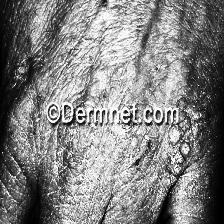Non-Cancerous Skin Condition: (26, 7, 104, 60), (22, 128, 78, 187), (160, 133, 210, 191), (96, 134, 149, 182)
